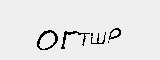Г: (60, 30, 78, 49)
О: (37, 29, 58, 51)
Р: (107, 25, 125, 46)
Т: (78, 30, 90, 49)
Ш: (90, 29, 106, 48)
